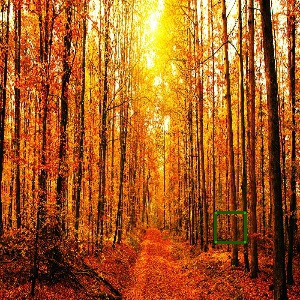square: (212, 210, 248, 244)
